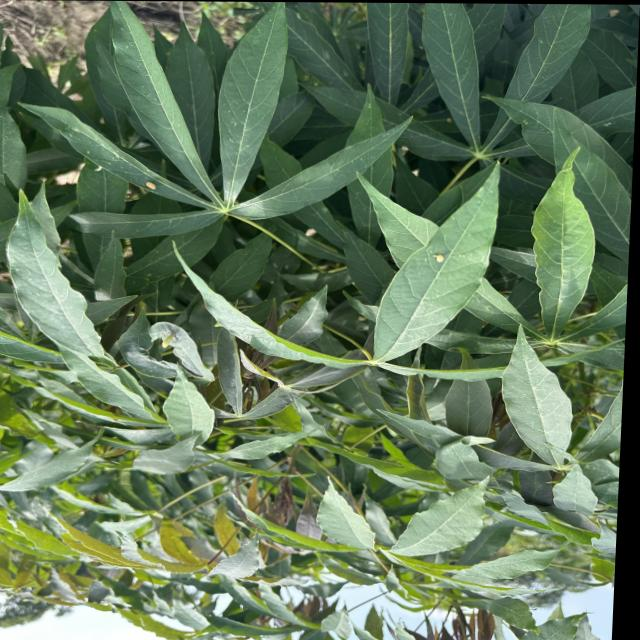Mosca: (157, 328, 184, 358), (137, 170, 169, 193), (418, 249, 454, 267)
